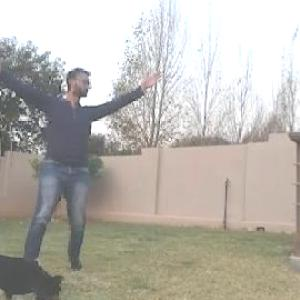takeoff: (0, 44, 171, 274)
